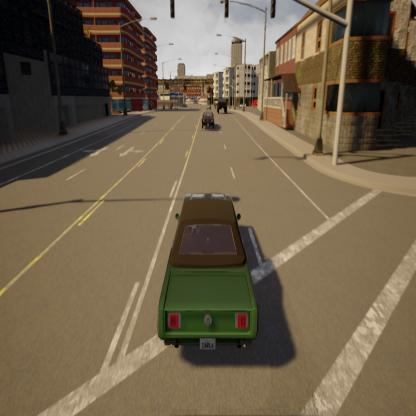Cars: (160, 192, 259, 351), (215, 93, 229, 117), (203, 111, 214, 129)
